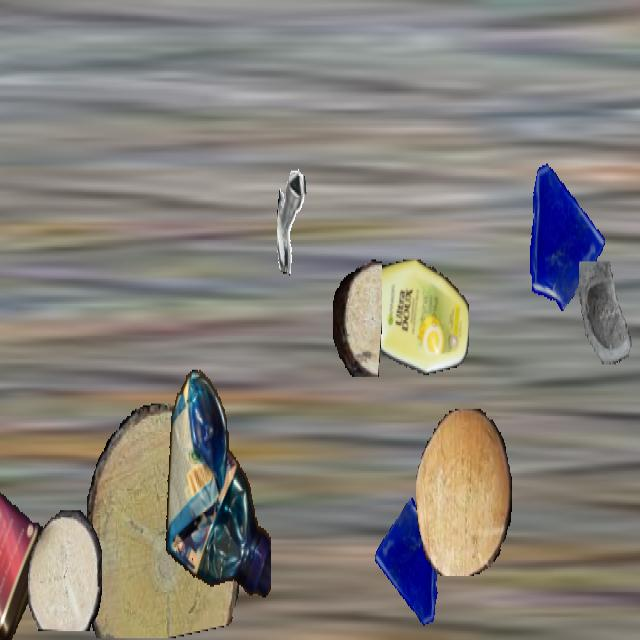glass: (517, 151, 607, 311), (373, 498, 451, 636), (573, 262, 640, 382)
metal: (277, 169, 339, 279), (632, 450, 640, 542)
plastic: (162, 366, 270, 608), (356, 259, 468, 377), (0, 393, 48, 638)
wood: (83, 404, 243, 638), (416, 409, 512, 576), (28, 510, 102, 631), (333, 258, 381, 375)
